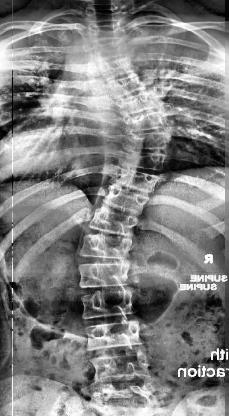Vertebrae: (90, 352, 152, 380), (80, 292, 136, 321), (84, 322, 142, 350), (78, 231, 132, 261), (89, 206, 138, 238), (75, 262, 134, 288), (103, 183, 149, 215), (121, 146, 167, 174), (112, 87, 156, 116), (122, 128, 166, 152), (114, 168, 158, 192), (88, 36, 130, 60), (125, 110, 165, 134), (82, 21, 128, 41), (84, 6, 128, 26), (98, 54, 138, 76), (106, 74, 146, 94)
